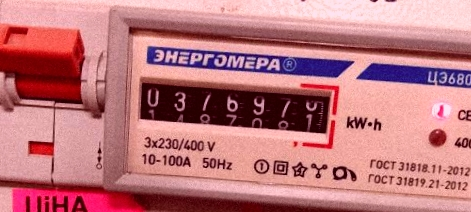0: (144, 84, 160, 107)
1: (301, 111, 314, 132)
3: (171, 89, 188, 112)
6: (223, 88, 240, 112)
7: (196, 88, 213, 111), (277, 95, 292, 118)
9: (249, 92, 265, 116)
screen: (126, 66, 341, 152)
